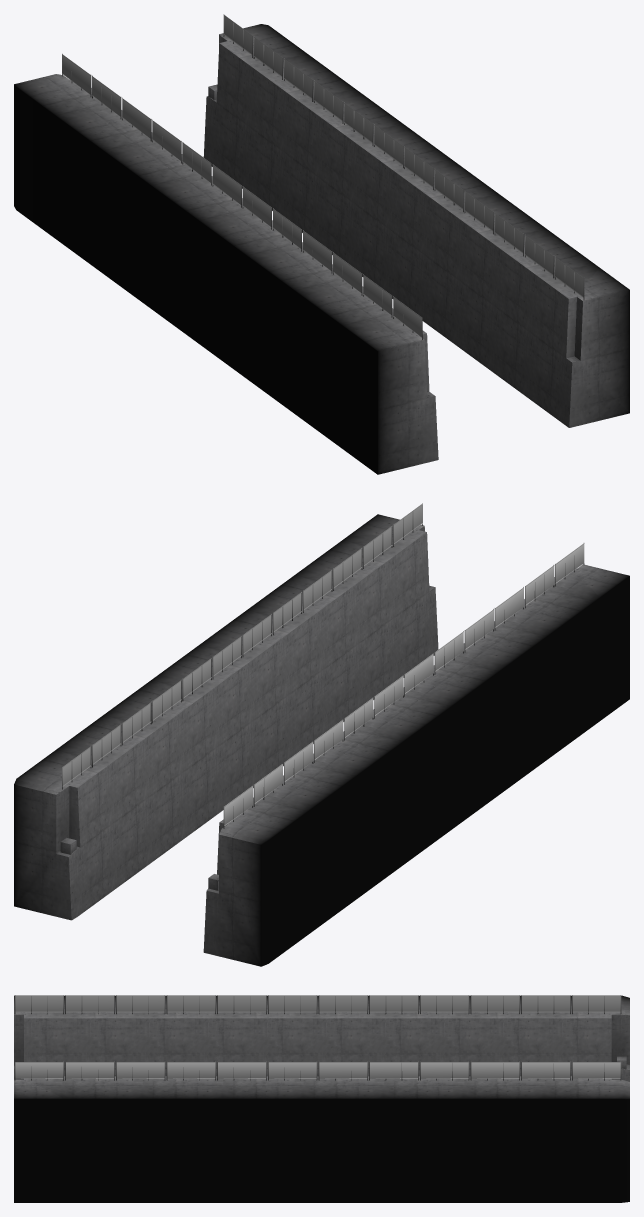
File: 2RAIL_AMB_KONKURI.glb
The picture shows the model from 3 angles, top to bottom: view 1: azimuth 30°, elevation 25°; view 2: azimuth 150°, elevation 25°; view 3: azimuth 270°, elevation 25°; orthographic projection. The views are drawn at different scales.
Visible parts, largest first — view 1: obj1, obj8, obj14, obj12, obj5, obj13, obj6, obj7, bone0, obj15, obj10, obj9 (+1 smaller); view 2: obj1, obj8, obj6, obj7, obj5, obj14, obj13, obj12, obj10, obj9, obj15, bone0 (+1 smaller); view 3: obj1, obj8, obj5, obj13, obj7, obj14, obj12, obj11, obj10, obj9, obj6, bone0 (+1 smaller).
Part boxes in pixels (<box>): obj1: <box>14,24,629,474</box>; obj8: <box>182,102,373,185</box>; obj14: <box>363,234,554,317</box>; obj12: <box>303,191,493,273</box>; obj5: <box>92,36,282,118</box>; obj13: <box>333,213,523,295</box>; obj6: <box>122,58,313,141</box>; obj7: <box>152,80,343,163</box>; bone0: <box>62,14,252,96</box>; obj15: <box>393,256,584,339</box>; obj10: <box>242,146,433,229</box>; obj9: <box>212,124,403,207</box>; obj1: <box>14,514,629,966</box>; obj8: <box>182,657,373,740</box>; obj6: <box>122,701,313,784</box>; obj7: <box>152,679,343,762</box>; obj5: <box>92,724,282,806</box>; obj14: <box>363,525,554,608</box>; obj13: <box>333,547,523,630</box>; obj12: <box>303,569,493,652</box>; obj10: <box>242,613,433,696</box>; obj9: <box>212,635,403,718</box>; obj15: <box>393,503,584,586</box>; bone0: <box>62,746,252,828</box>; obj1: <box>14,995,629,1202</box>; obj8: <box>369,995,418,1080</box>; obj5: <box>521,995,570,1080</box>; obj13: <box>116,995,165,1080</box>; obj7: <box>420,995,469,1080</box>; obj14: <box>65,995,114,1080</box>; obj12: <box>166,995,215,1080</box>; obj11: <box>217,995,266,1080</box>; obj10: <box>268,995,317,1080</box>; obj9: <box>318,995,367,1080</box>; obj6: <box>470,995,519,1080</box>; bone0: <box>572,995,621,1080</box>.
Bounding box in the file's own units: 60.42 × 33.42 × 152.
25 materials, 25 textured.
